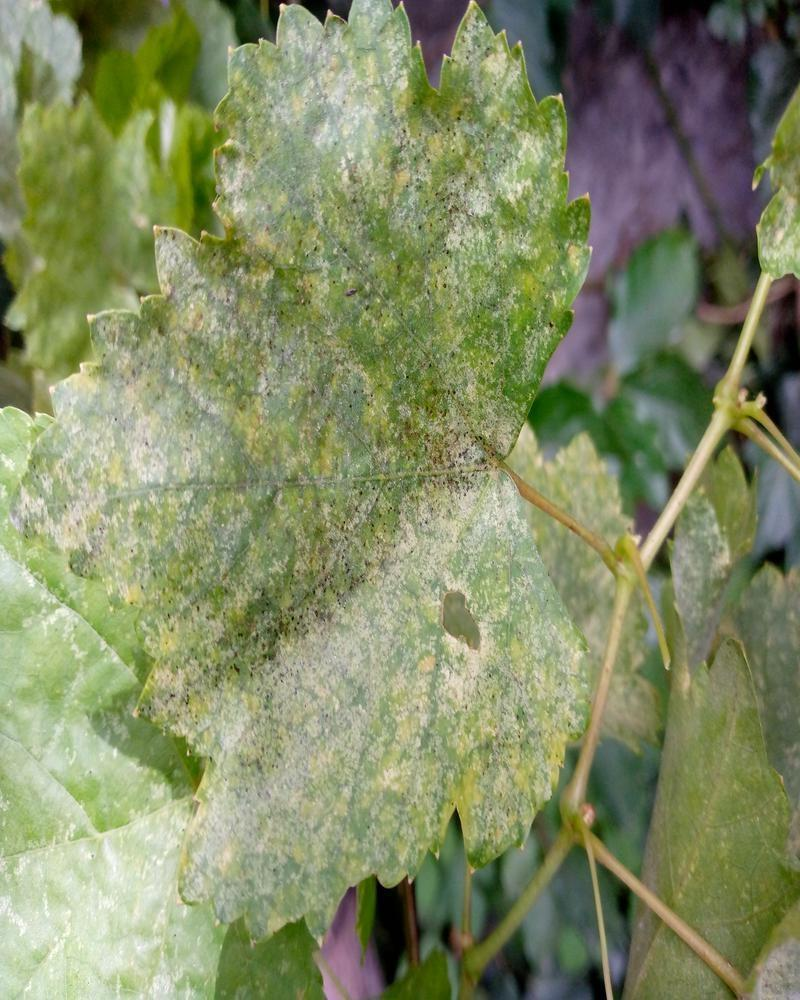Powdery-Mildew: (291, 482, 595, 878), (32, 336, 234, 623), (210, 0, 417, 228), (171, 655, 351, 916), (452, 21, 572, 278), (154, 226, 241, 348)
